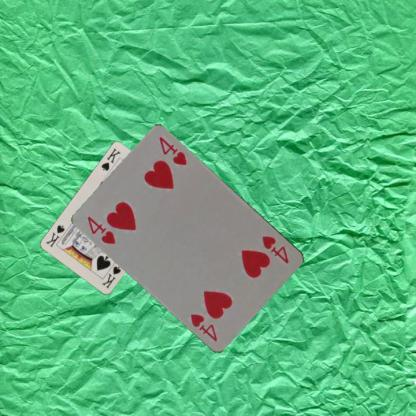4h: (258, 232, 290, 265), (85, 213, 117, 246)
Ks: (99, 264, 122, 290), (99, 146, 122, 172)
